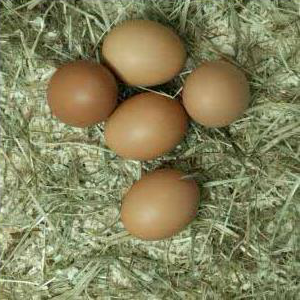egg: (120, 168, 201, 240), (102, 20, 188, 87), (103, 92, 185, 161), (47, 60, 117, 128), (183, 60, 251, 129)
